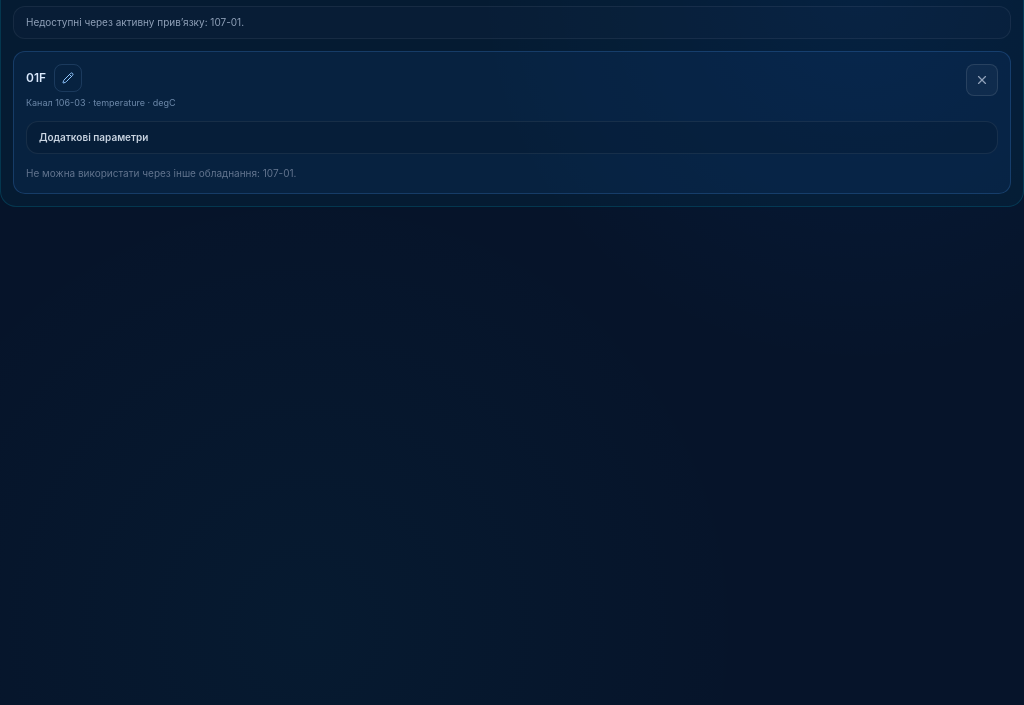
it: SensorPlacementManager › treats confirming the current replacement channel as a no-op
Click the heading "Додаткові параметри" at (94, 137), box [39,131,148,143]
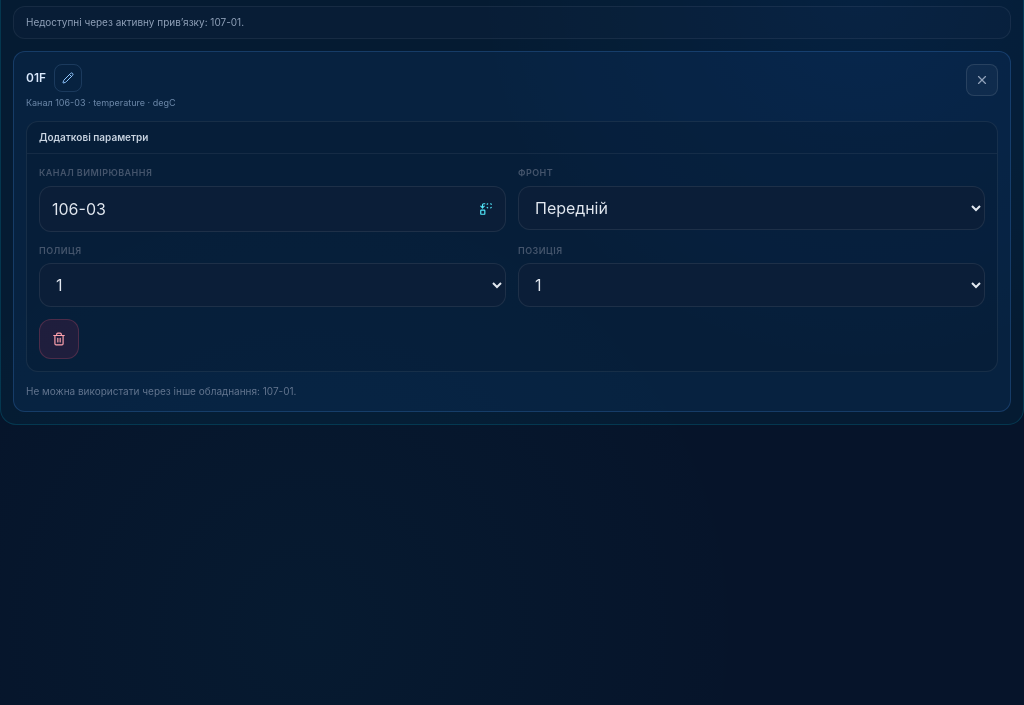
Click the button named "Вибрати інший канал вимірювання" at (79, 208), box [39,186,506,232]
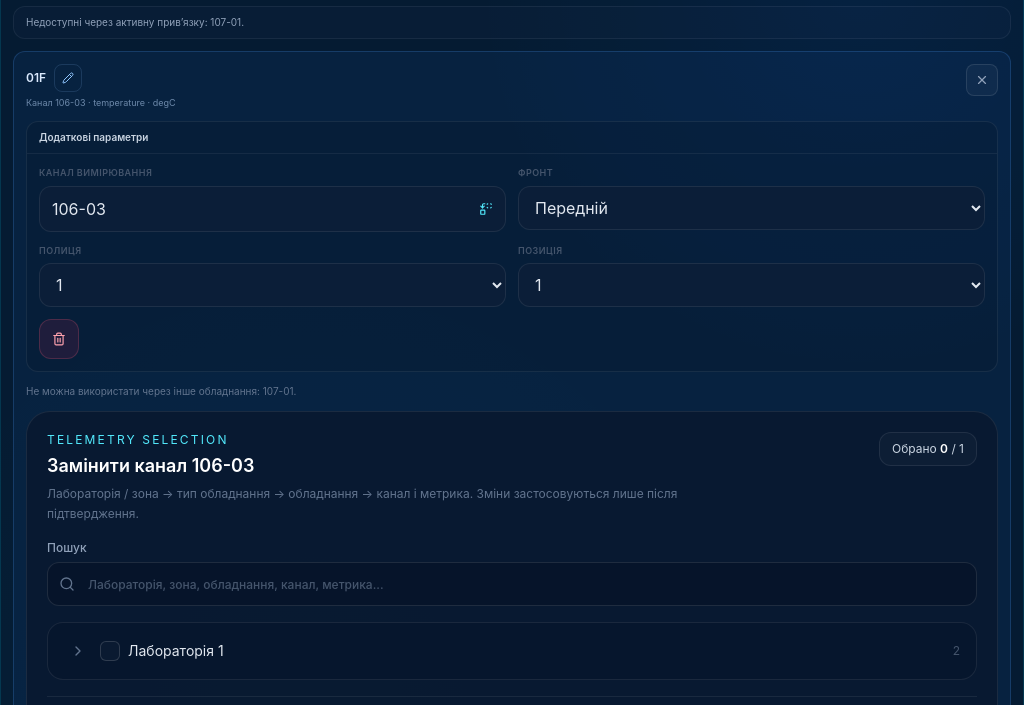
Type "106-03" into the search field labelled "Пошук" at (512, 584), box [47,562,977,606]
(page scrolled)
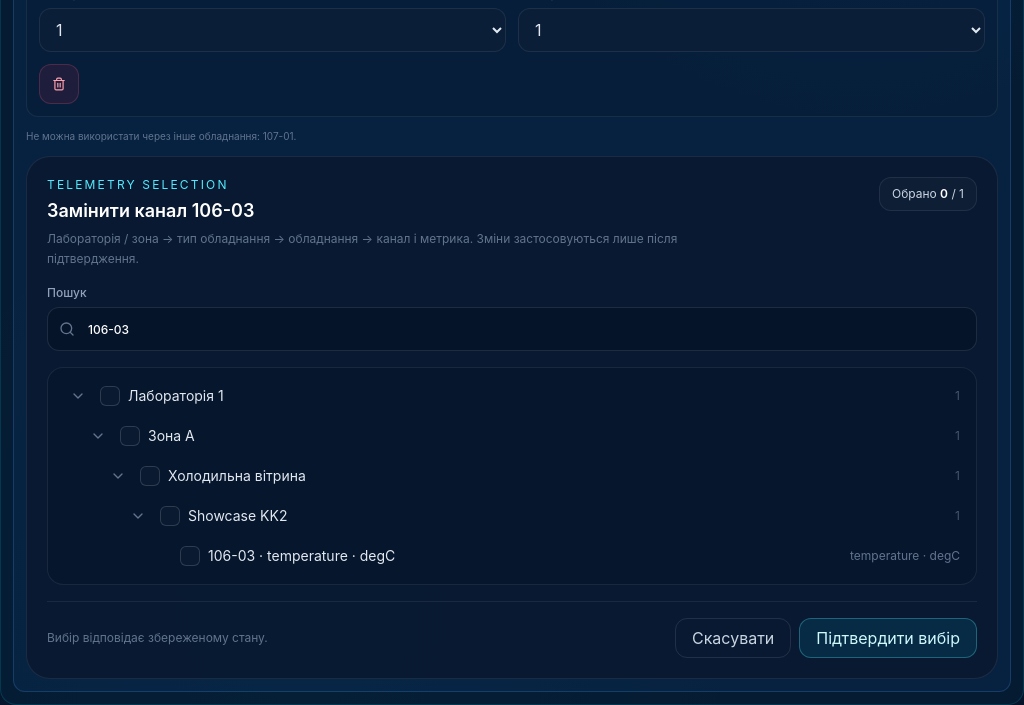
Click the list item "106-03 · temperature · degC temperature · degC" at (302, 556), box [180,546,960,566]
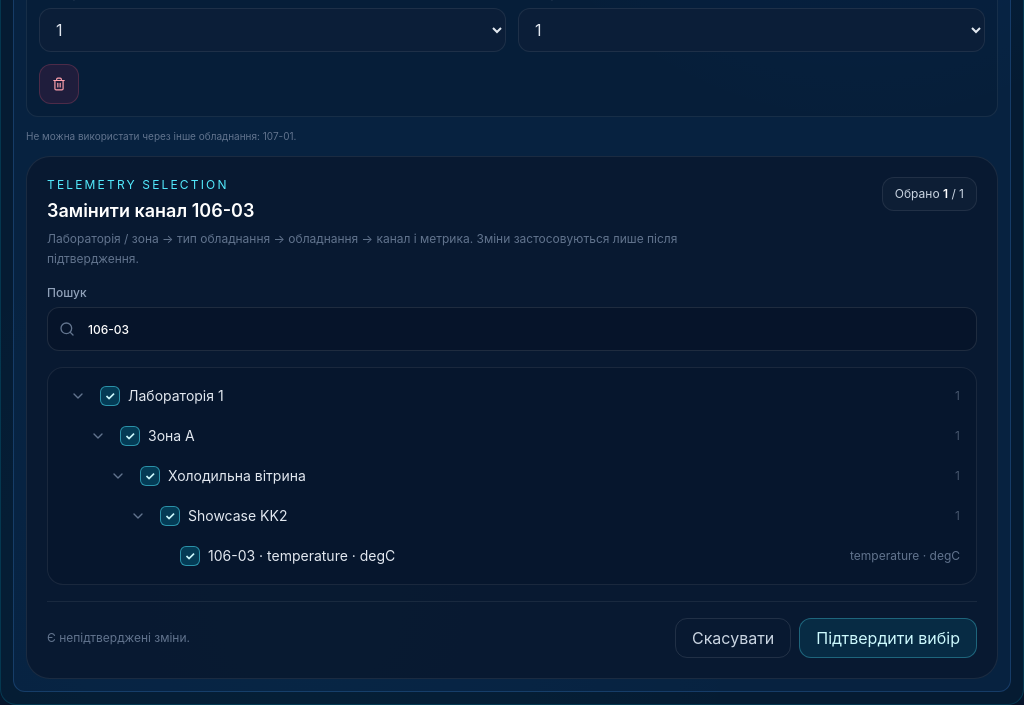
Click the button "Підтвердити вибір" at (888, 638), box [799,618,977,658]
(page scrolled)
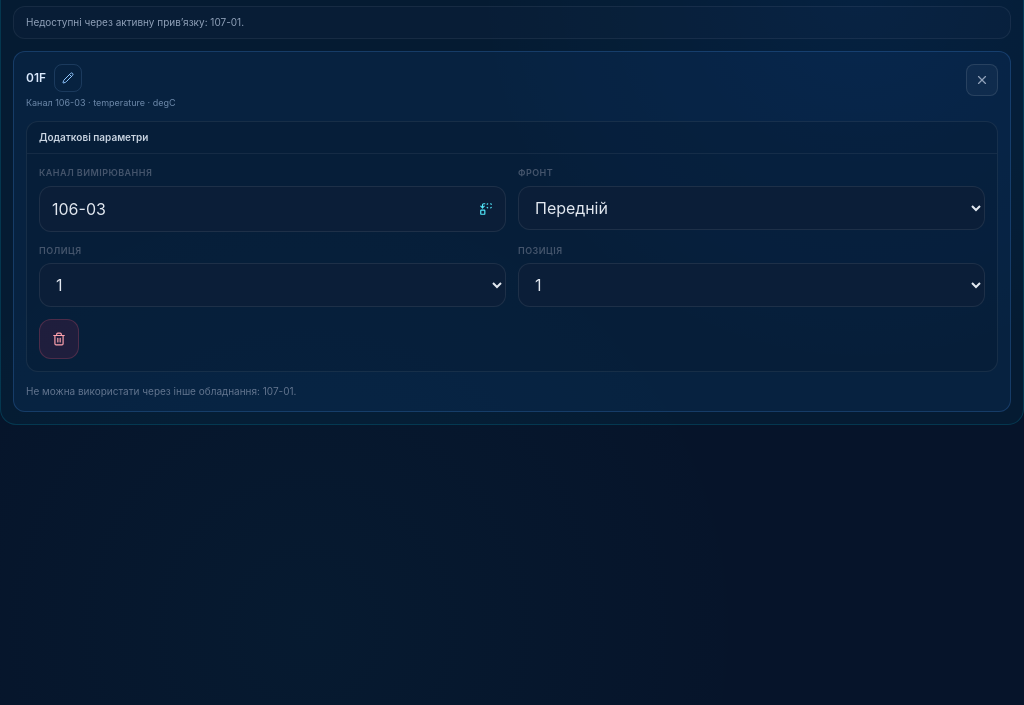
Expected: the element with test id "equipment-map-replace-telemetry-selector" is gone
